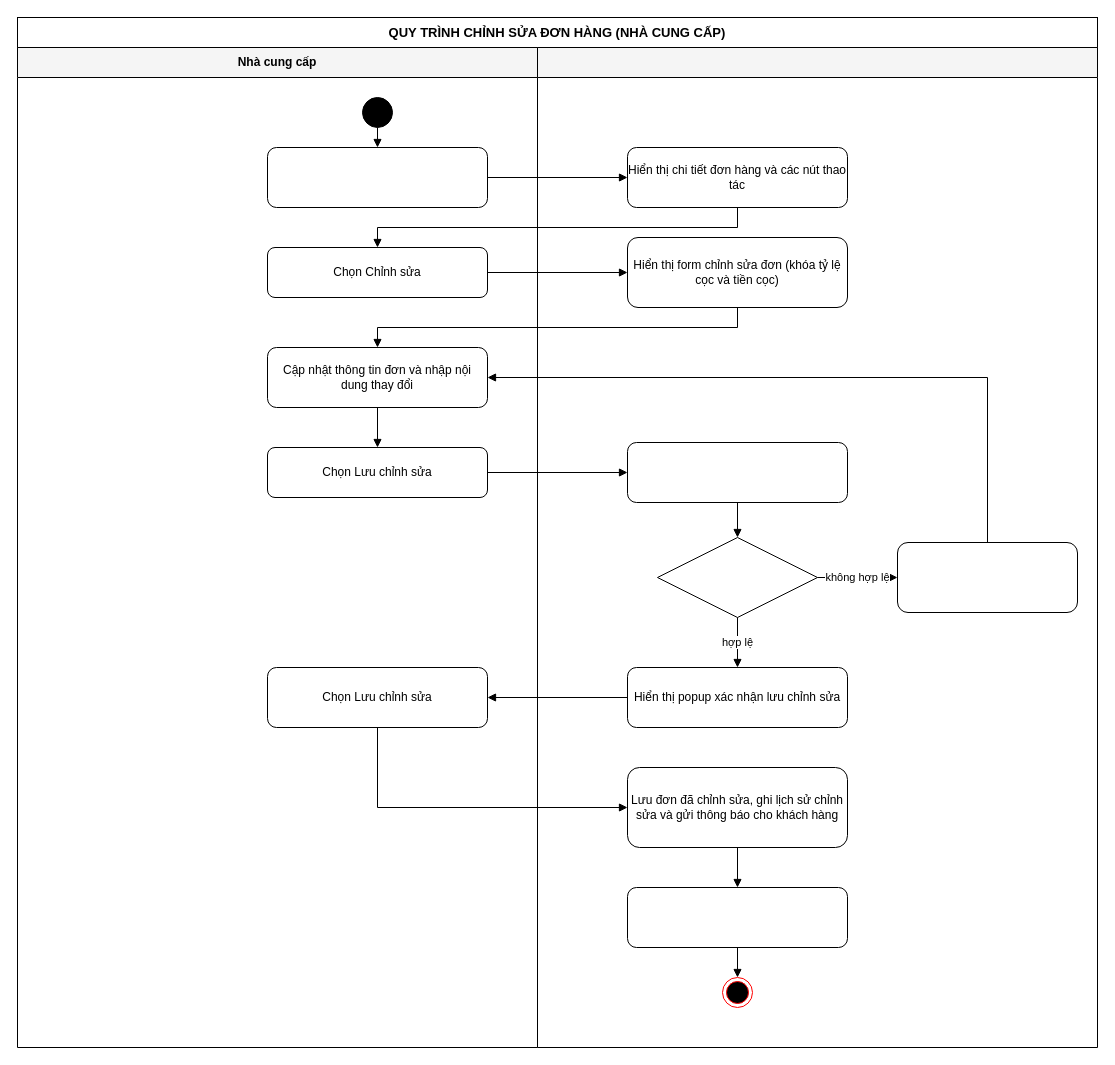
Some shapes in this 1115 by 1065 pixel diagram are drawn without their labels. The shapes that lost their labels are listed below. From the top down, each one's box as (x1, y1, x2, y2) in pixels, then its label:
(266, 146, 488, 208): Tại màn hình Quản lý đơn hàng, chọn đơn cần chỉnh sửa
(626, 442, 848, 502): Kiểm tra tính hợp lệ của dữ liệu
(536, 46, 1098, 1048): Hệ thống
(896, 542, 1078, 612): Hiển thị lỗi tại từng trường chưa hợp lệ, yêu cầu nhập lại
(626, 886, 848, 948): Hiển thị thông báo chỉnh sửa đơn thành công
